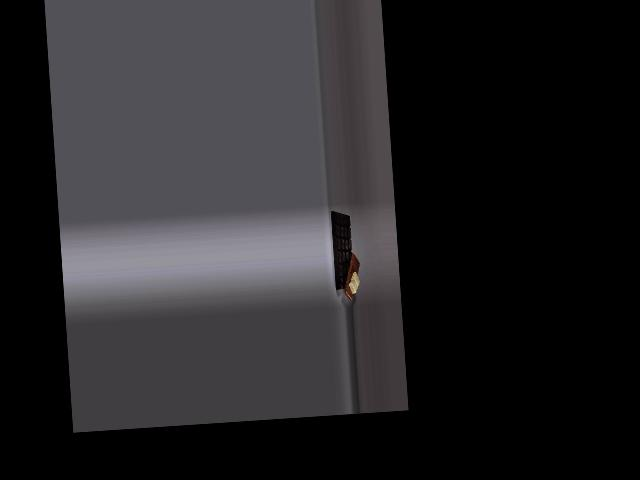chocolate: (328, 209, 358, 295)
